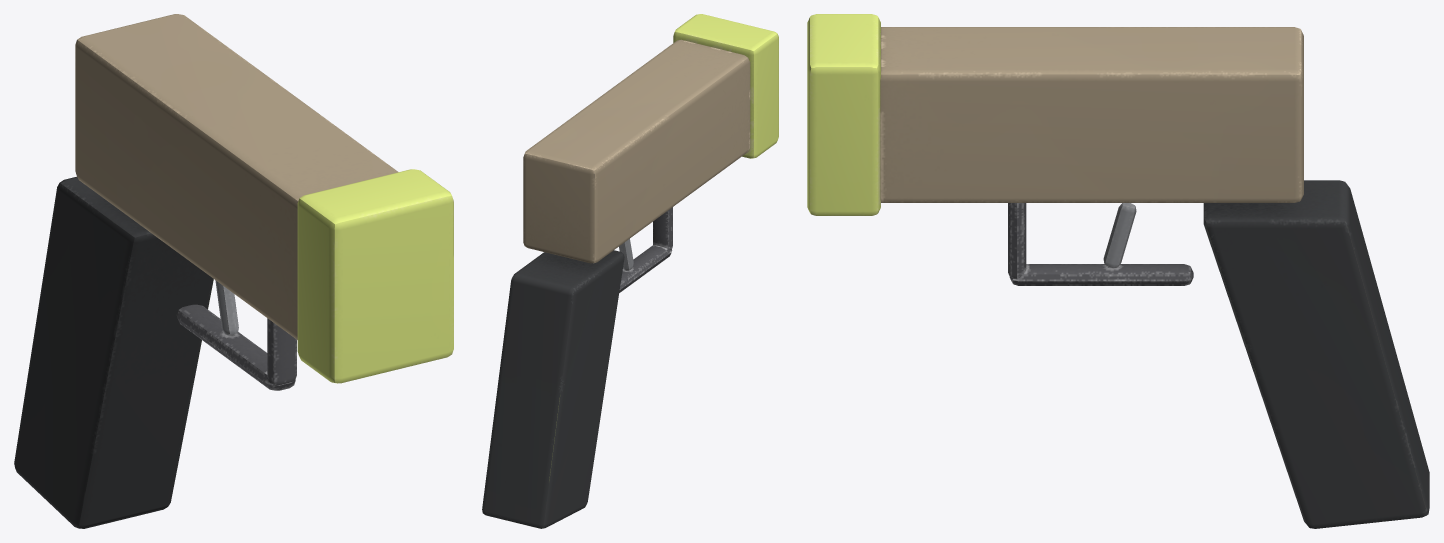
The model's file is taser.fbx.
3 views of the same model, side by side, from view 1: azimuth 30°, elevation 25°; view 2: azimuth 150°, elevation 25°; view 3: azimuth 270°, elevation 25° (orthographic). The views are drawn at different scales.
Parts seen in each view (by area): view 1: taser; view 2: taser; view 3: taser.
Part boxes in pixels (x1=…): taser: x1=14, y1=14, x2=453, y2=528; taser: x1=482, y1=14, x2=778, y2=528; taser: x1=807, y1=14, x2=1429, y2=528.
Bounding box in the file's own units: 0.036 × 0.1417 × 0.1692.
